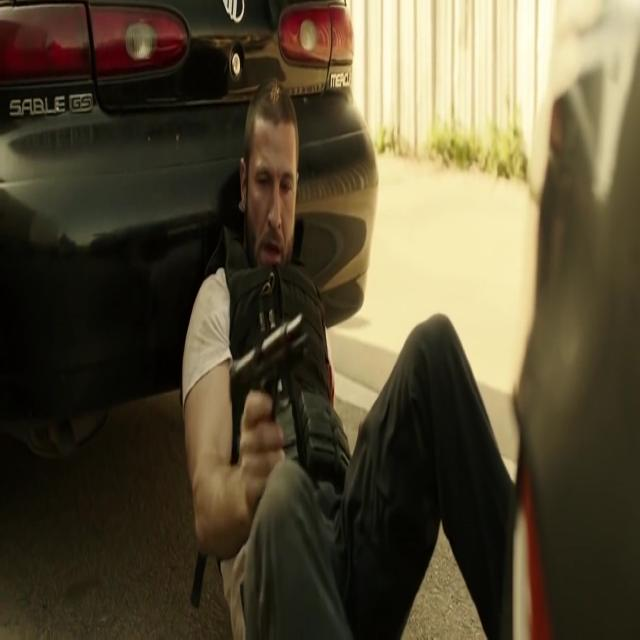Weapon: (218, 310, 321, 460)
